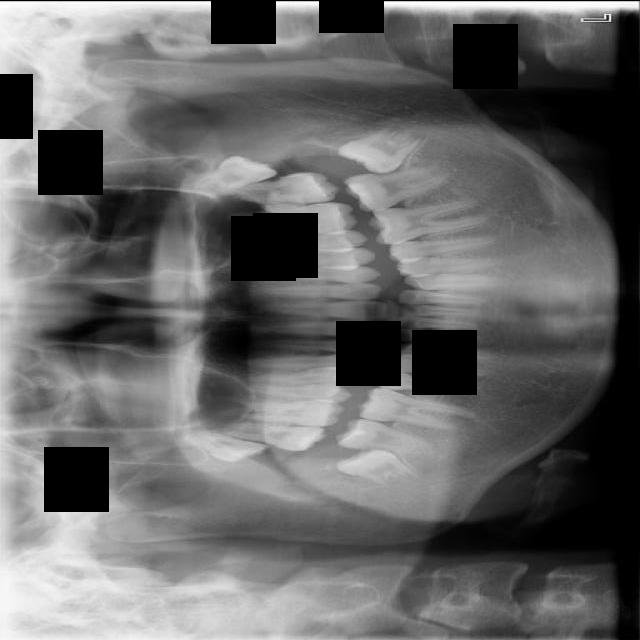3M ESPE Implant: (180, 427, 269, 468)
73: (616, 10, 624, 20)
BioHorizons Implant: (211, 171, 341, 203)
BioLife Implant: (186, 141, 279, 206)
Biomet 3i Implant: (336, 109, 433, 190)
Blue Sky Bio Implant: (343, 162, 456, 215)
Caries: (214, 416, 328, 453)
Implant: (334, 415, 437, 456)
Keystone Dental Implant: (335, 437, 424, 494)
